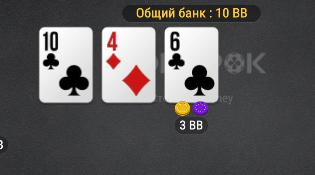10c: (40, 29, 92, 102)
4d: (104, 27, 154, 101)
6c: (166, 29, 217, 101)
